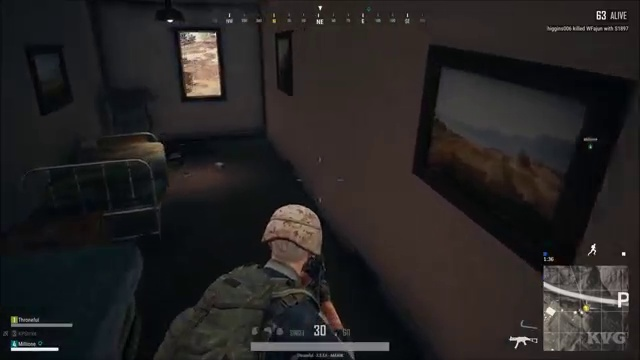Player: (181, 190, 405, 322)
